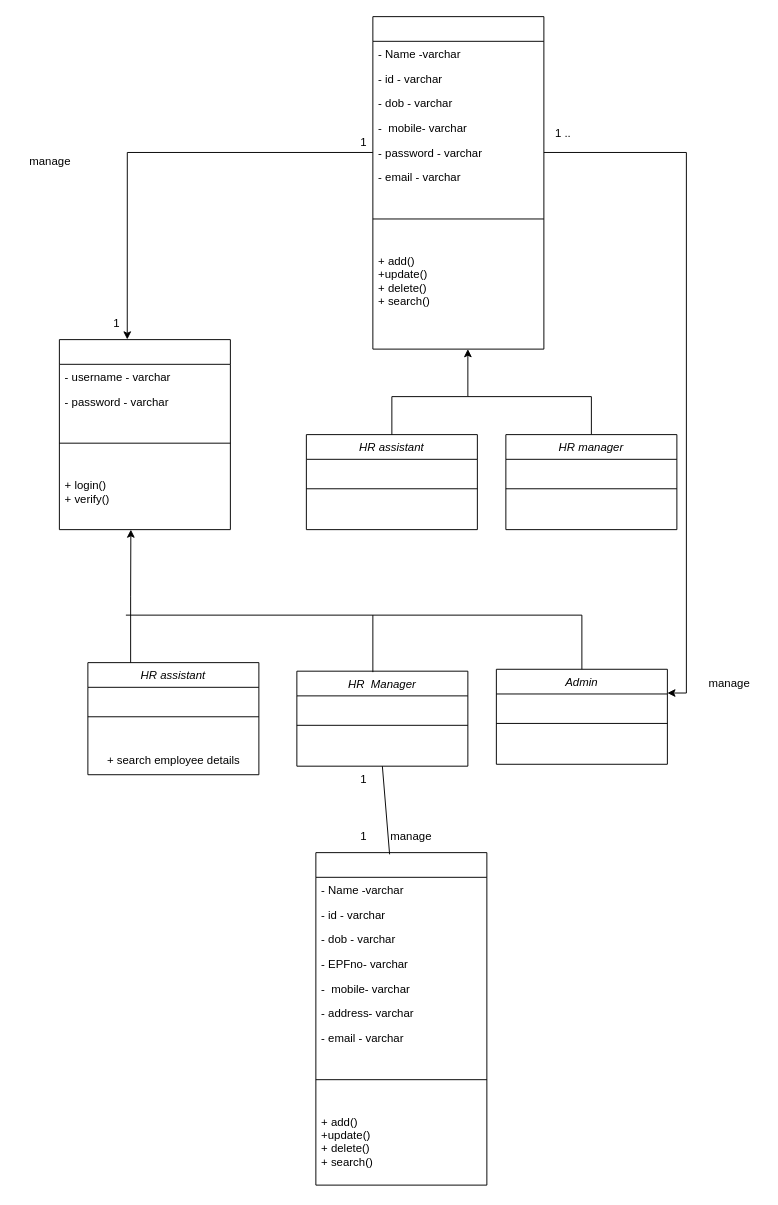
Image size: 778x1205. Some labels were removed from this diagram. The shapes that lost their labels are listed below. From the top down, each one's box as (x1, y1, x2, y2) in pixels, then its label:
(372, 16, 544, 349): user
(58, 339, 230, 530): user login
(315, 852, 487, 1185): Employee
